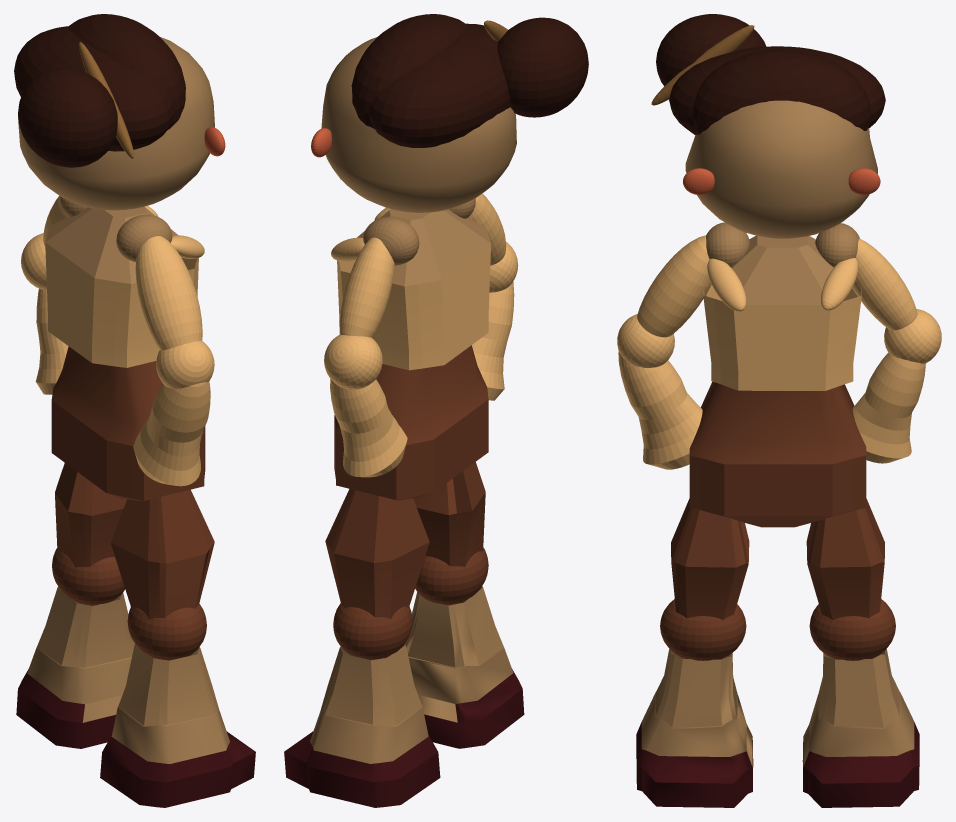
The model's file is teen Mandy standing.fbx.
3 views of the same model, side by side, from view 1: azimuth 30°, elevation 25°; view 2: azimuth 150°, elevation 25°; view 3: azimuth 270°, elevation 25° (orthographic).
Visible parts, largest first — view 1: Cube.051, Cube.050, trousers.015, Sphere.211, Cube.049, Cube.048, Sphere.215, Sphere.216, Sphere.210, Sphere.205, Sphere.203, Sphere.217 (+8 smaller); view 2: Cube.051, Cube.050, Sphere.211, trousers.015, Sphere.216, Cube.049, Cube.048, Sphere.215, Sphere.210, Sphere.217, Sphere.204, Cube.047 (+7 smaller); view 3: trousers.015, Sphere.211, Cube.051, Cube.050, Cube.048, Cube.049, Sphere.217, Sphere.210, Sphere.205, Cube.047, Sphere.204, Sphere.203 (+9 smaller).
Boxes of the visible parts, bbox=[...] form: Cube.051: bbox=[27, 586, 229, 763]; Cube.050: bbox=[55, 463, 214, 619]; trousers.015: bbox=[51, 346, 205, 500]; Sphere.211: bbox=[18, 37, 214, 210]; Cube.049: bbox=[16, 669, 255, 807]; Cube.048: bbox=[45, 242, 198, 367]; Sphere.215: bbox=[18, 68, 117, 167]; Sphere.216: bbox=[14, 26, 174, 151]; Sphere.210: bbox=[52, 548, 206, 660]; Sphere.205: bbox=[133, 381, 210, 486]; Sphere.203: bbox=[135, 236, 202, 350]; Sphere.217: bbox=[68, 14, 185, 129]; Cube.051: bbox=[310, 586, 513, 763]; Cube.050: bbox=[325, 462, 485, 619]; Sphere.211: bbox=[321, 37, 516, 212]; trousers.015: bbox=[334, 345, 488, 500]; Sphere.216: bbox=[369, 23, 510, 147]; Cube.049: bbox=[284, 669, 524, 807]; Cube.048: bbox=[337, 244, 490, 370]; Sphere.215: bbox=[497, 17, 588, 117]; Sphere.210: bbox=[333, 547, 488, 659]; Sphere.217: bbox=[351, 14, 467, 128]; Sphere.204: bbox=[330, 379, 407, 477]; Cube.047: bbox=[357, 209, 490, 286]; trousers.015: bbox=[689, 381, 866, 527]; Sphere.211: bbox=[685, 100, 877, 238]; Cube.051: bbox=[641, 649, 914, 766]; Cube.050: bbox=[671, 498, 884, 619]; Cube.048: bbox=[703, 285, 861, 390]; Cube.049: bbox=[636, 722, 919, 807]; Sphere.217: bbox=[693, 50, 870, 134]; Sphere.210: bbox=[660, 599, 895, 660]; Sphere.205: bbox=[618, 351, 702, 469]; Cube.047: bbox=[731, 235, 833, 305]; Sphere.204: bbox=[852, 352, 925, 463]; Sphere.203: bbox=[637, 235, 711, 337].
Bounding box in the file's own units: 204 × 677 × 276.
